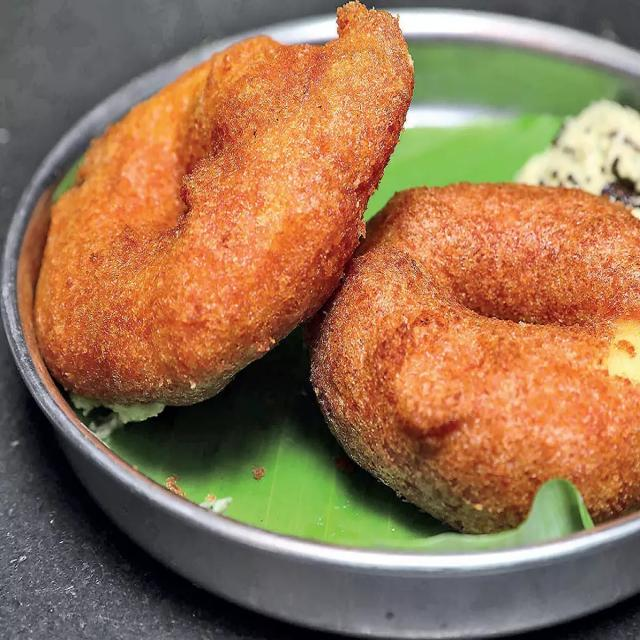Vada: (17, 1, 416, 425), (305, 182, 640, 538)
